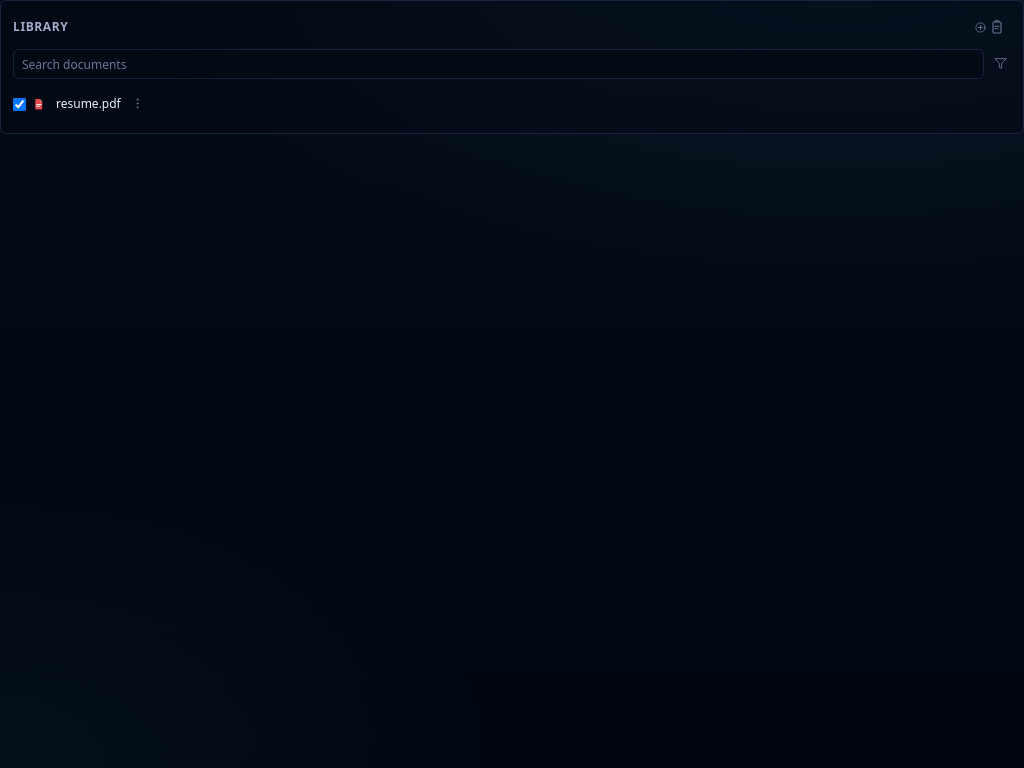
Test: LibraryPane row › the overflow menu shows only Delete when nothing else applies (no contexts, no partner window, no open conversation)
Expected: the text "resume.pdf" is shown, [56, 95, 121, 113]
Click the button named "more actions for resume.pdf" at (137, 104), box [127, 93, 148, 114]
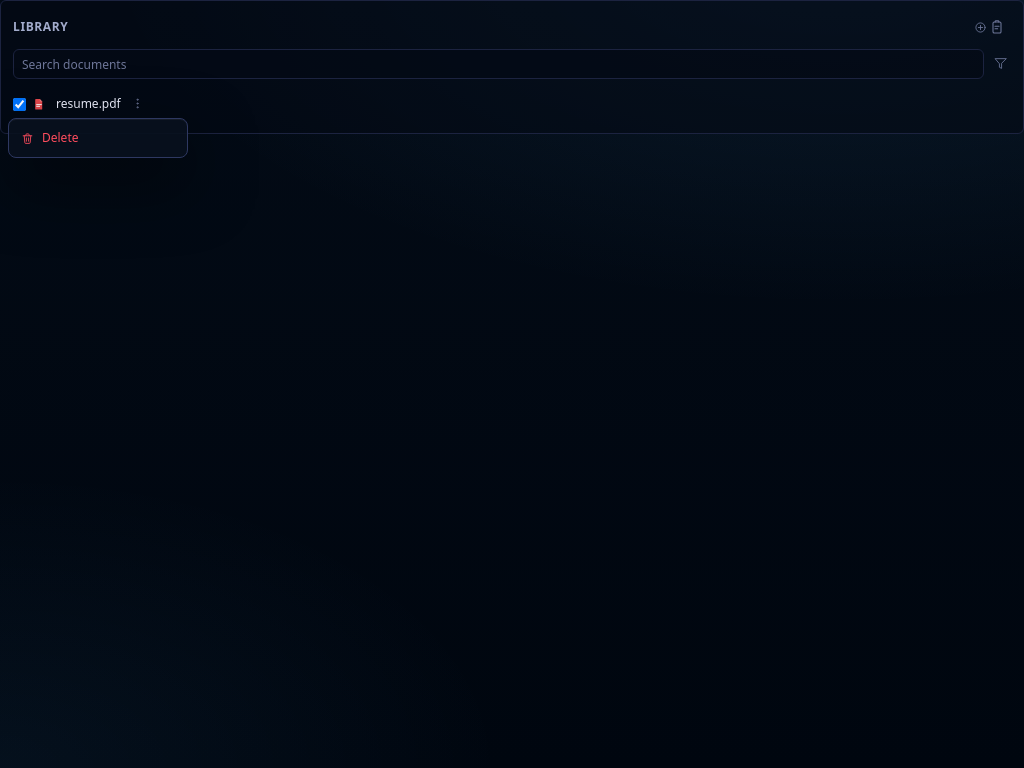
Now the menu item "Delete" is shown, box [13, 123, 183, 153]
